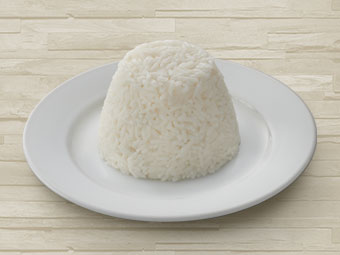plain rice: (104, 50, 235, 179)
